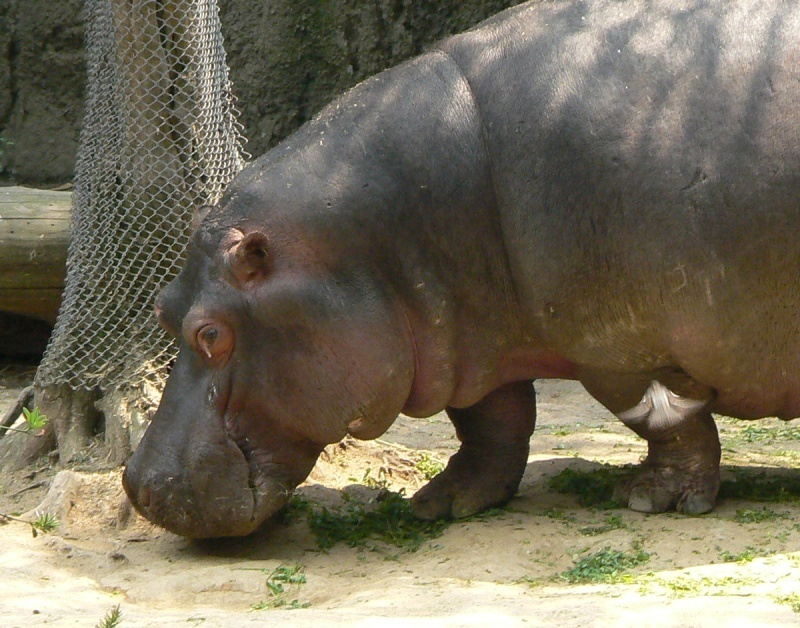hipopotamo: (116, 4, 800, 534)
